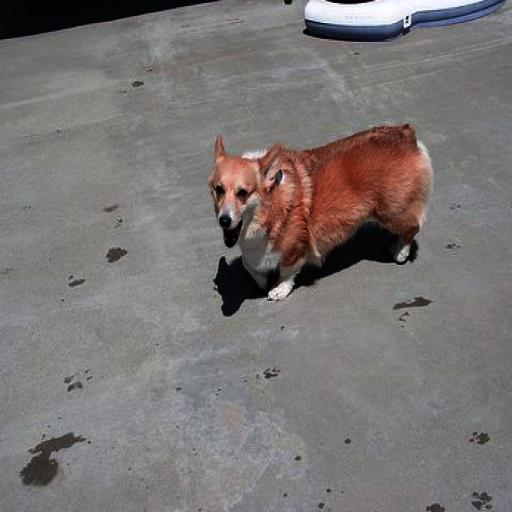dog_face: (199, 136, 282, 249)
